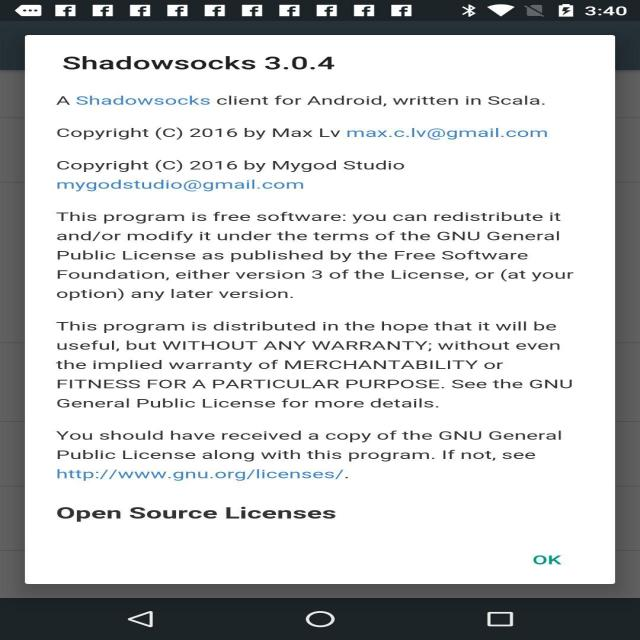button: (524, 540, 586, 574)
text: (30, 48, 603, 541), (535, 549, 568, 567)
